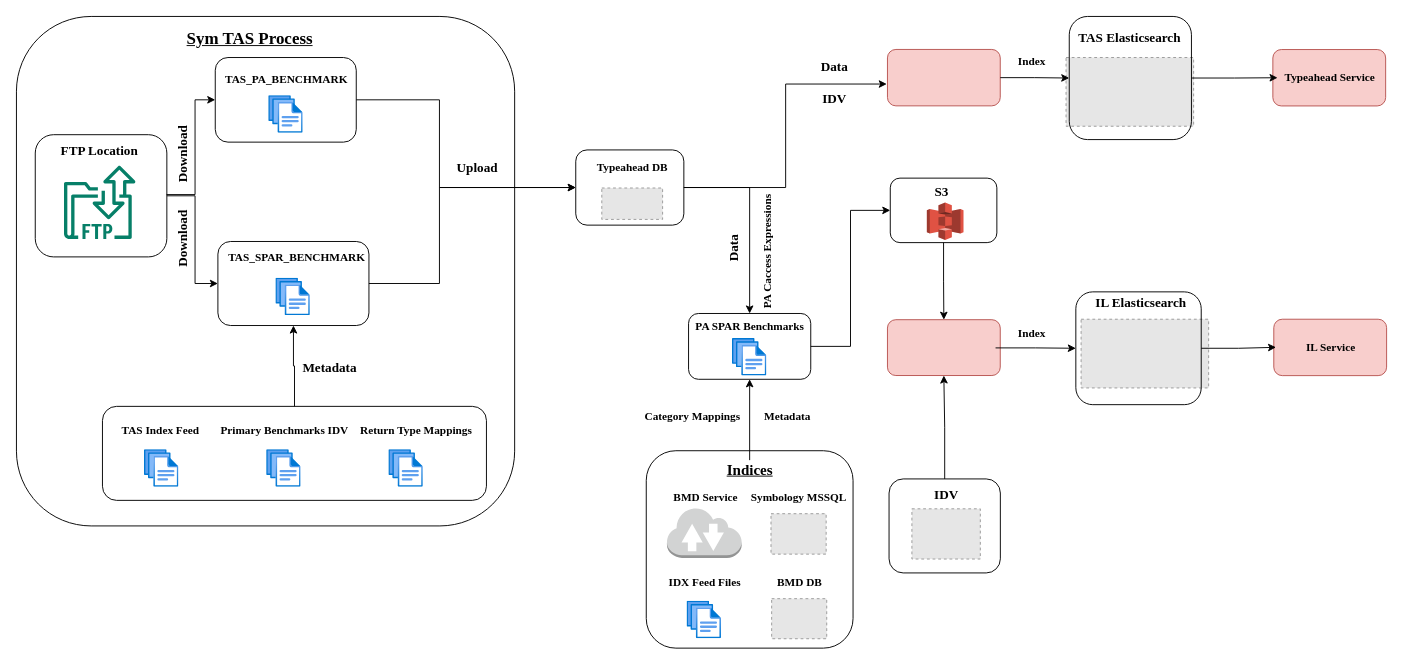
Image size: 1403x665. Some labels were removed from this diagram. Grey dashed boxes stand in for pictures. The centre of each missing label's shape, as x and y in pixels:
Sym-il Indexing: point 943,347
Sym-tas Indexing: point 943,77
